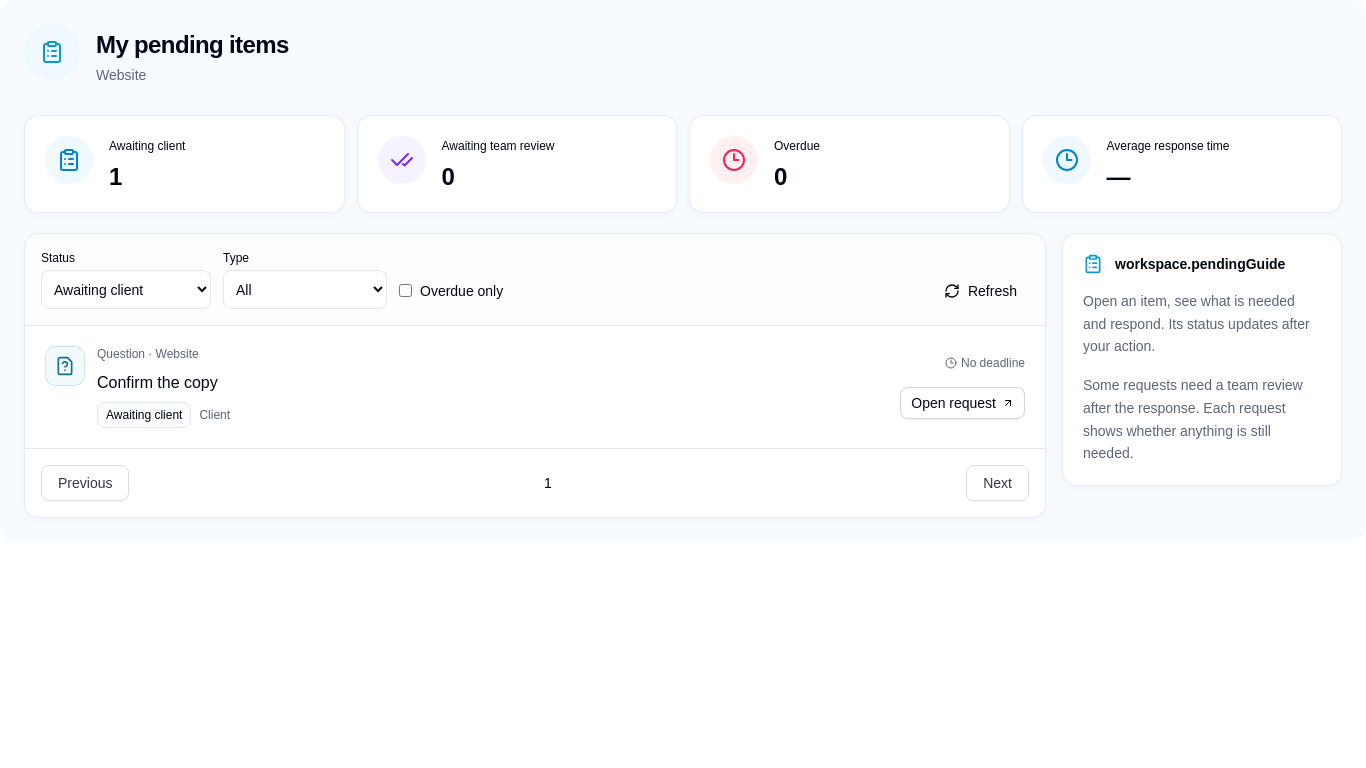
Test: opening a queue item has no write effect and never shows staff completion to clients
This screenshot has width=1366, height=768.
Click the button "Open request" at (963, 403), box [900, 387, 1025, 419]
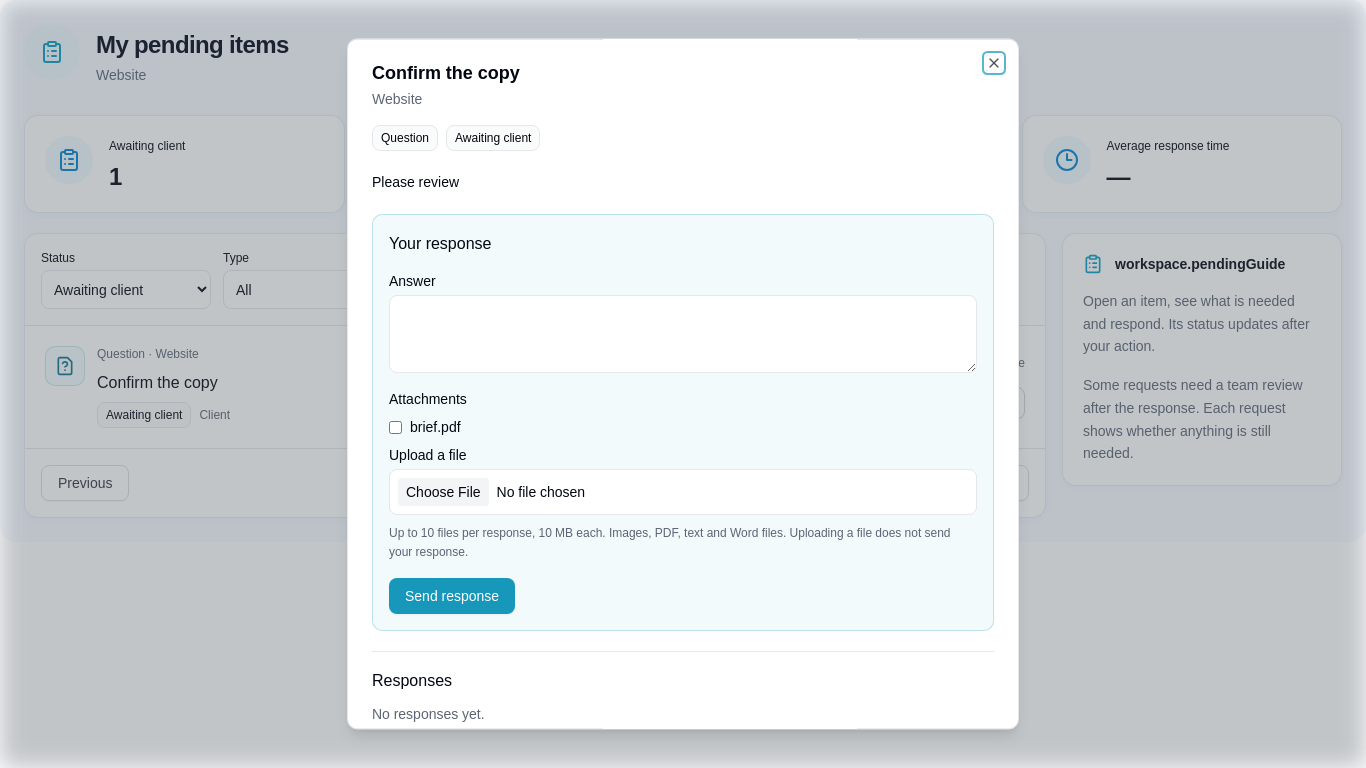
Now the text "Please review" is shown, box [372, 172, 459, 191]
